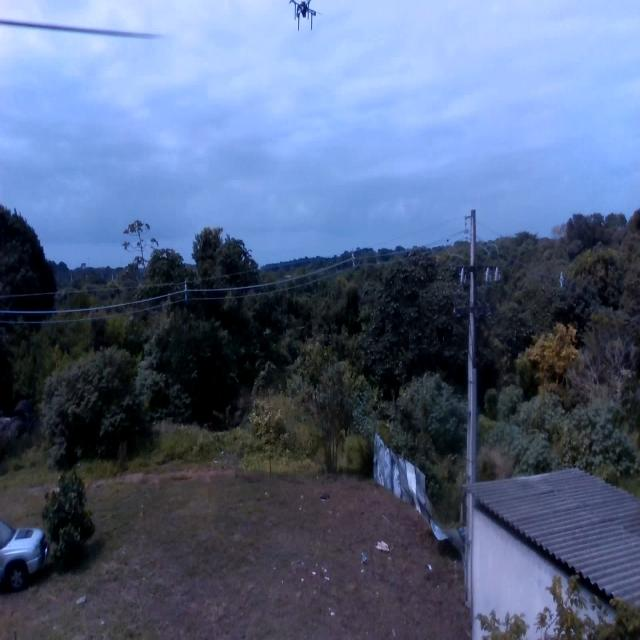-uav-: (290, 0, 323, 37)
